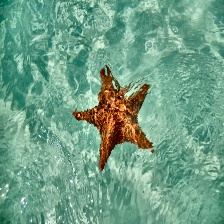starfish: (72, 64, 155, 172)
